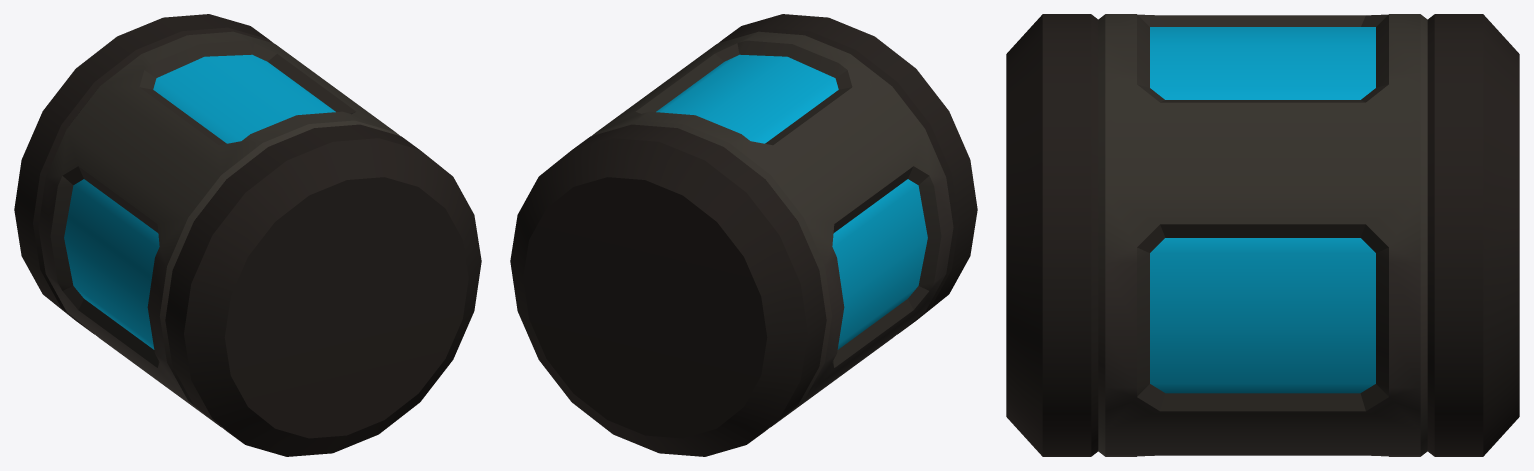
The model's file is AR10_Magazine.fbx.
3 renders of one model, left to right at view 1: azimuth 30°, elevation 25°; view 2: azimuth 150°, elevation 25°; view 3: azimuth 270°, elevation 25°, orthographic. The views are drawn at different scales.
Parts seen in each view (by area): view 1: AR10_Magazine; view 2: AR10_Magazine; view 3: AR10_Magazine.
Part boxes in pixels (x1,y1,x2,y2): AR10_Magazine: [14, 14, 481, 456]; AR10_Magazine: [510, 14, 977, 456]; AR10_Magazine: [1006, 14, 1519, 456].
Bounding box in the file's own units: 4.42 × 4.42 × 5.08.
